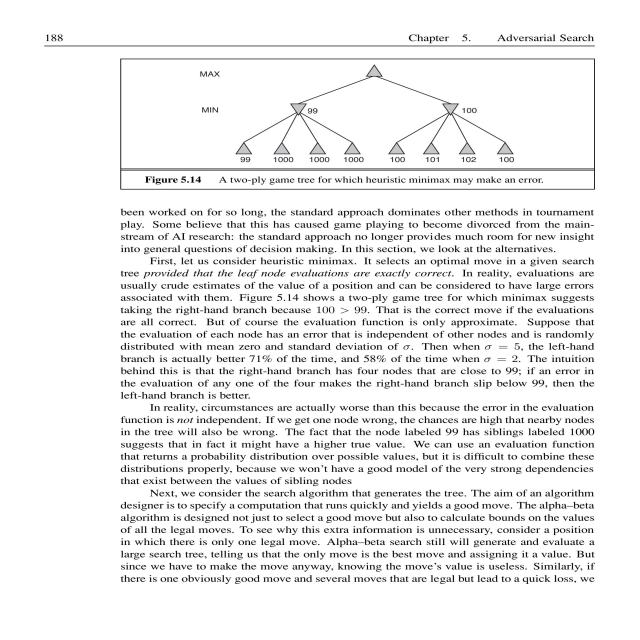diagram: (122, 54, 602, 198)
